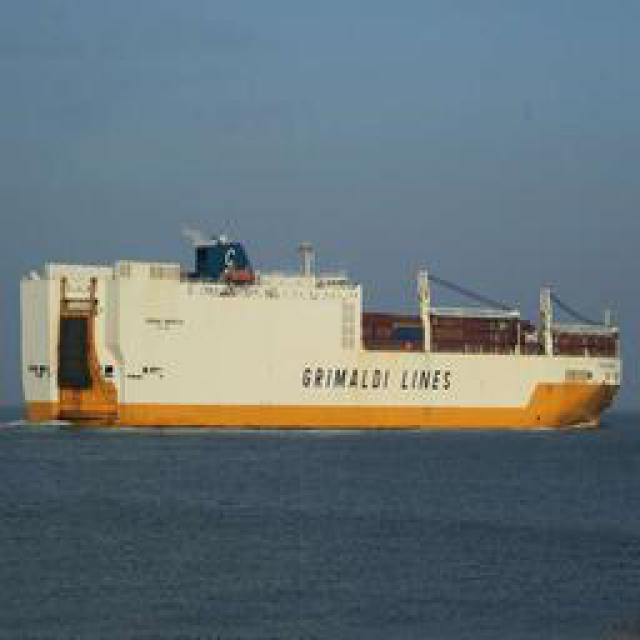Ship: (1, 252, 619, 440)
